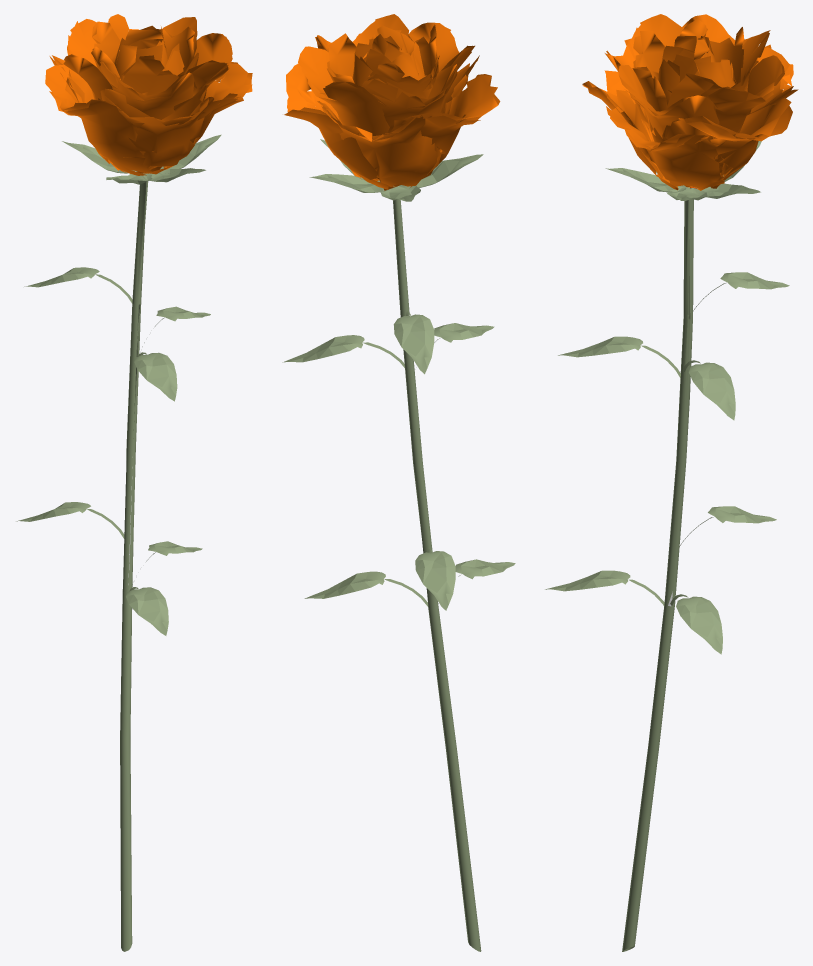
Rendered from flower.glb.
3 views of the same model, side by side, from view 1: azimuth 30°, elevation 25°; view 2: azimuth 150°, elevation 25°; view 3: azimuth 270°, elevation 25° (orthographic). The views are drawn at different scales.
Visible parts, largest first — view 1: 3d-model.001; view 2: 3d-model.001; view 3: 3d-model.001.
Boxes of the visible parts, bbox=[...] form: 3d-model.001: bbox=[16, 14, 252, 951]; 3d-model.001: bbox=[282, 14, 515, 951]; 3d-model.001: bbox=[545, 14, 798, 951].
Size of the model in its own units: 0.9389 by 4.31 by 1.05.
